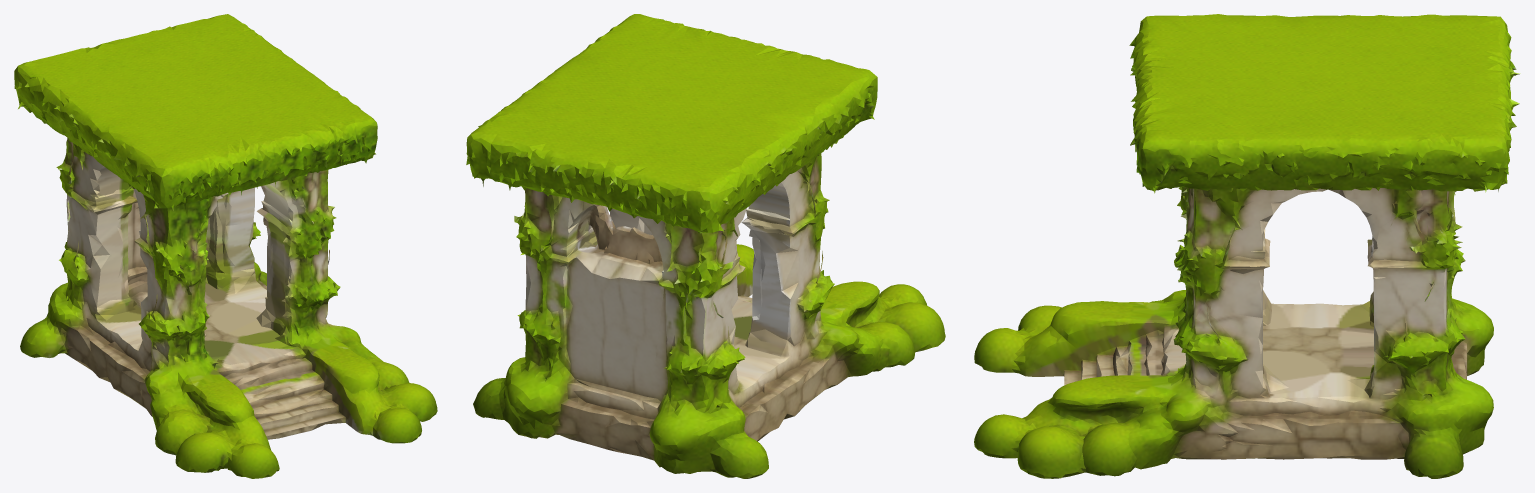
Rendered from temple_overgrown_vines.glb.
The picture shows the model from 3 angles, left to right: view 1: azimuth 30°, elevation 25°; view 2: azimuth 150°, elevation 25°; view 3: azimuth 270°, elevation 25°; orthographic projection. The views are drawn at different scales.
Parts seen in each view (by area): view 1: temple_overgrown_vines; view 2: temple_overgrown_vines; view 3: temple_overgrown_vines.
Boxes of the visible parts, x1,y1,x2,y2 form: temple_overgrown_vines: (14, 14, 437, 478); temple_overgrown_vines: (466, 14, 945, 478); temple_overgrown_vines: (974, 14, 1520, 478).
Bounding box in the file's own units: 1.25 × 1.25 × 1.89.
Materials: 1 (1 with a texture image).
